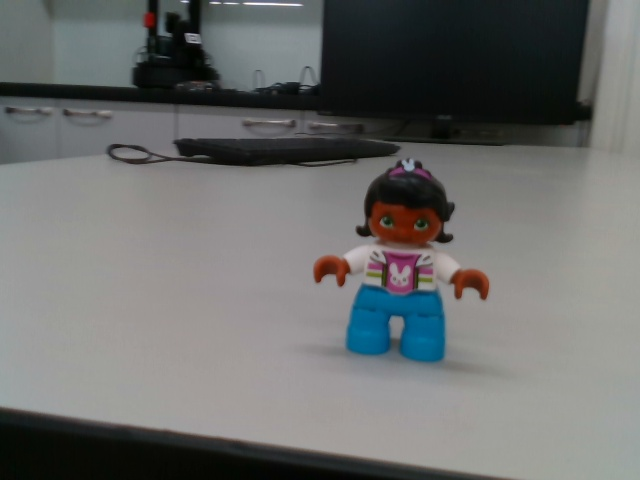people: (312, 156, 494, 368)
